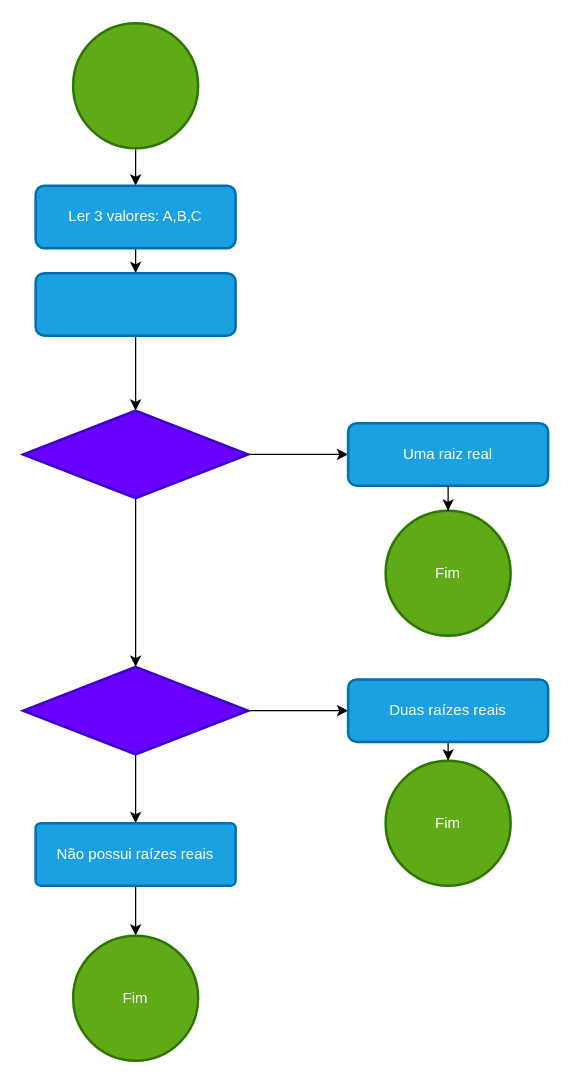
This 570x1083 diagram has some shape labels left out. Here are the shapes that lost their labels. From the top down, the box of each, then its label:
(71, 21, 199, 149): Inicio
(34, 271, 236, 336): Calcular o Delta
(21, 409, 249, 499): Delta == 0
(21, 665, 249, 755): Delta > 0
